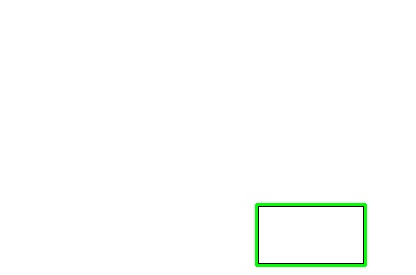line_segment: (255, 203, 367, 267)
